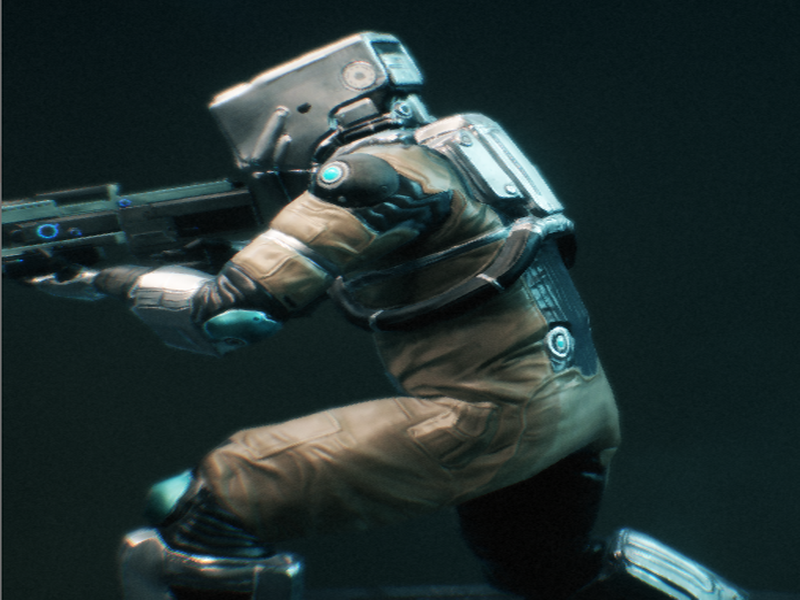corpus: (6, 27, 754, 595)
